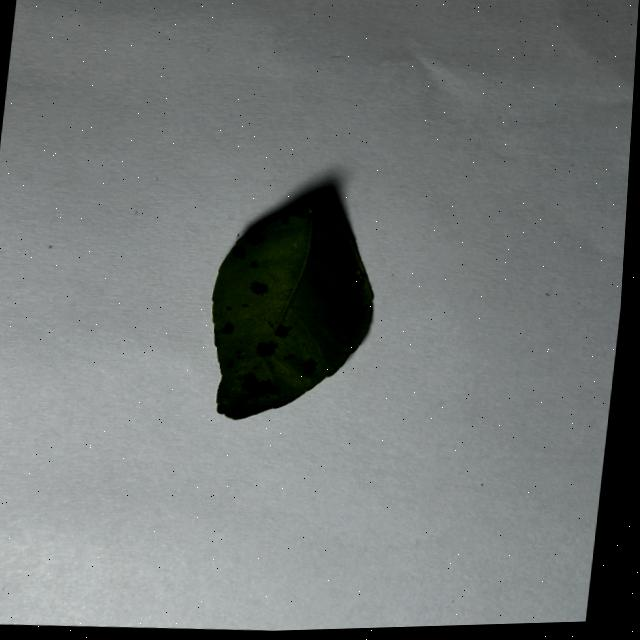sooty_mold: (213, 206, 373, 419)
